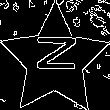N_W: (30, 40, 79, 81)
